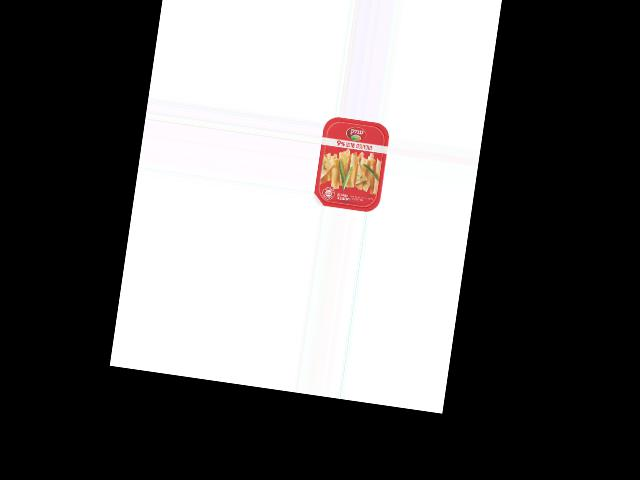cheese: (312, 115, 391, 214)
